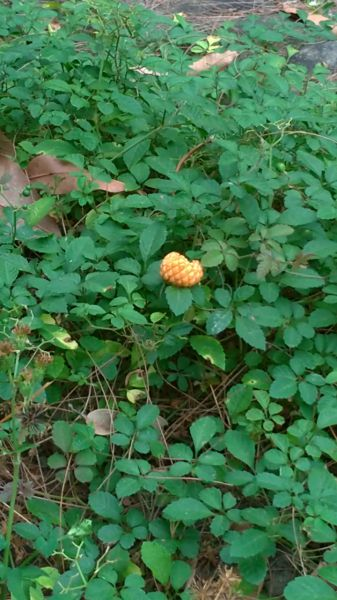eggs: (154, 249, 207, 290)
